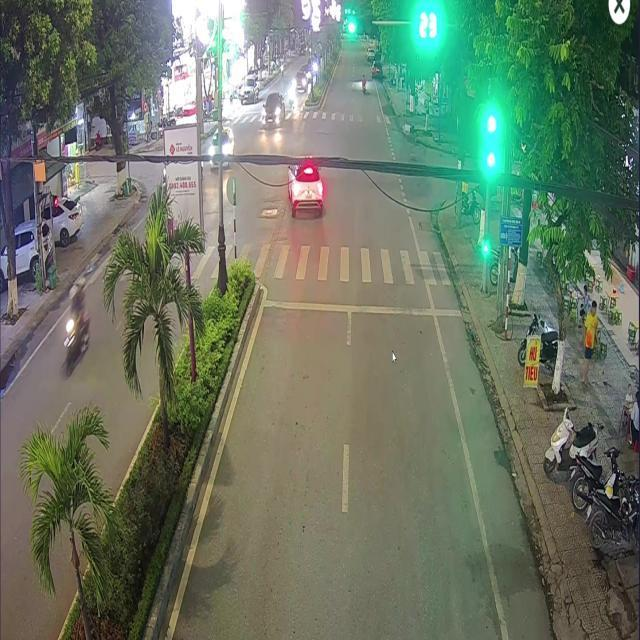car: (287, 163, 323, 216)
green_light: (346, 17, 370, 33), (486, 133, 495, 166), (483, 233, 487, 252)
stop_line: (263, 299, 461, 315)
